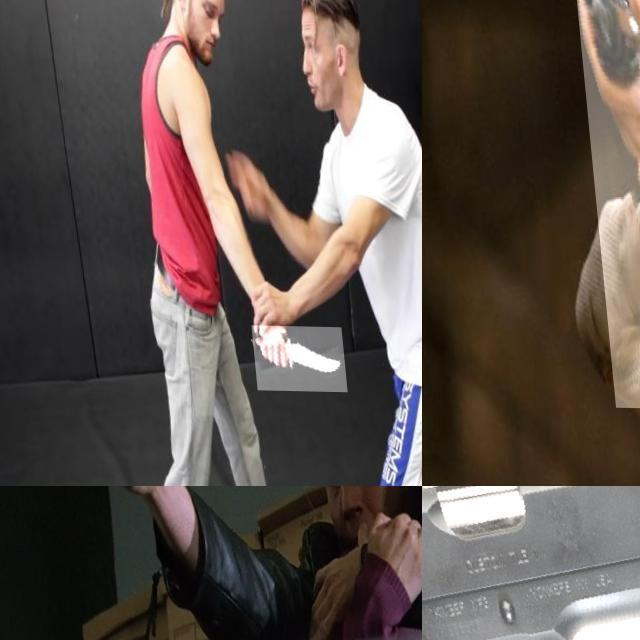-: (244, 324, 338, 391)
gun-knife-thesis - v11 Yolov5 augmented: (422, 486, 640, 640), (564, 0, 640, 409), (17, 486, 161, 602)
